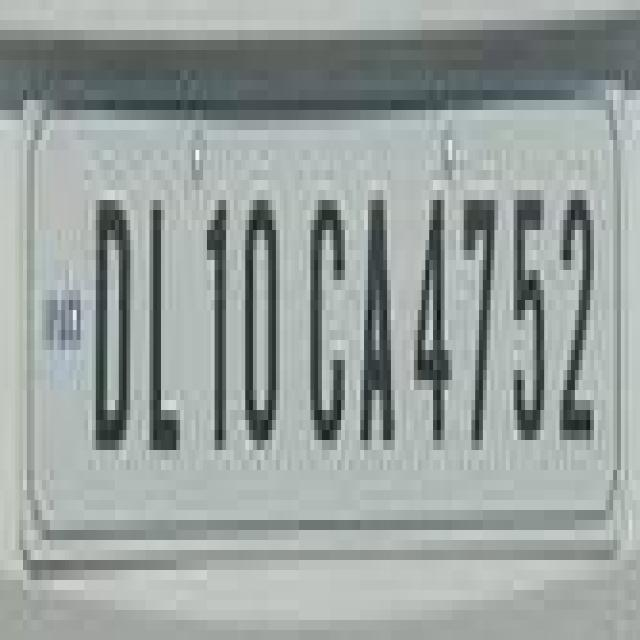license_plate: (19, 50, 640, 540)
